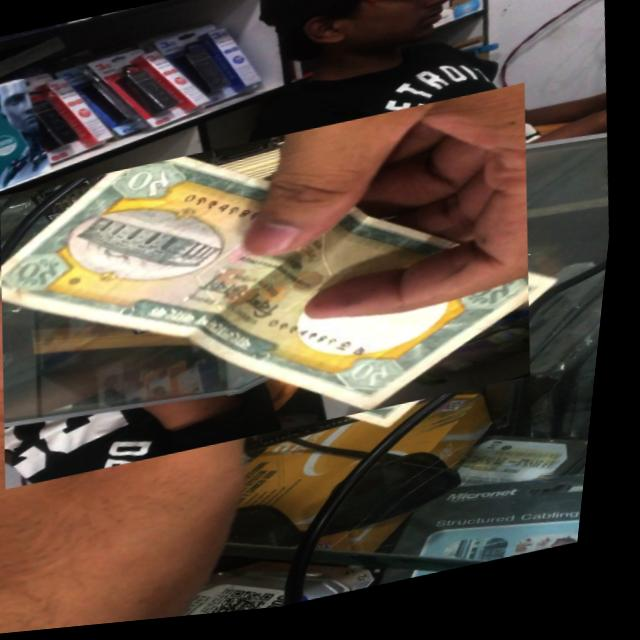Taka: (0, 91, 563, 492)
